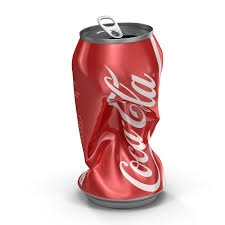metal: (68, 8, 176, 212)
